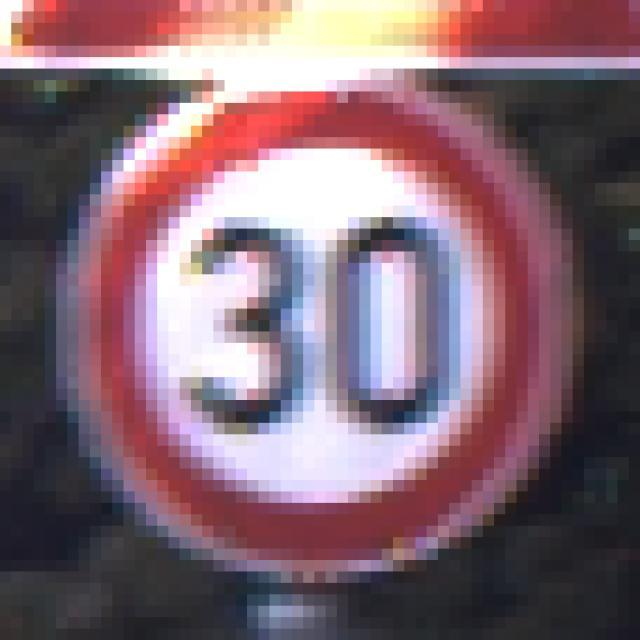Speed Limit -30-: (51, 51, 578, 578)
